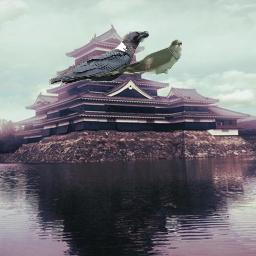Crow: (49, 31, 149, 85)
Cuckoo: (95, 39, 182, 79)
